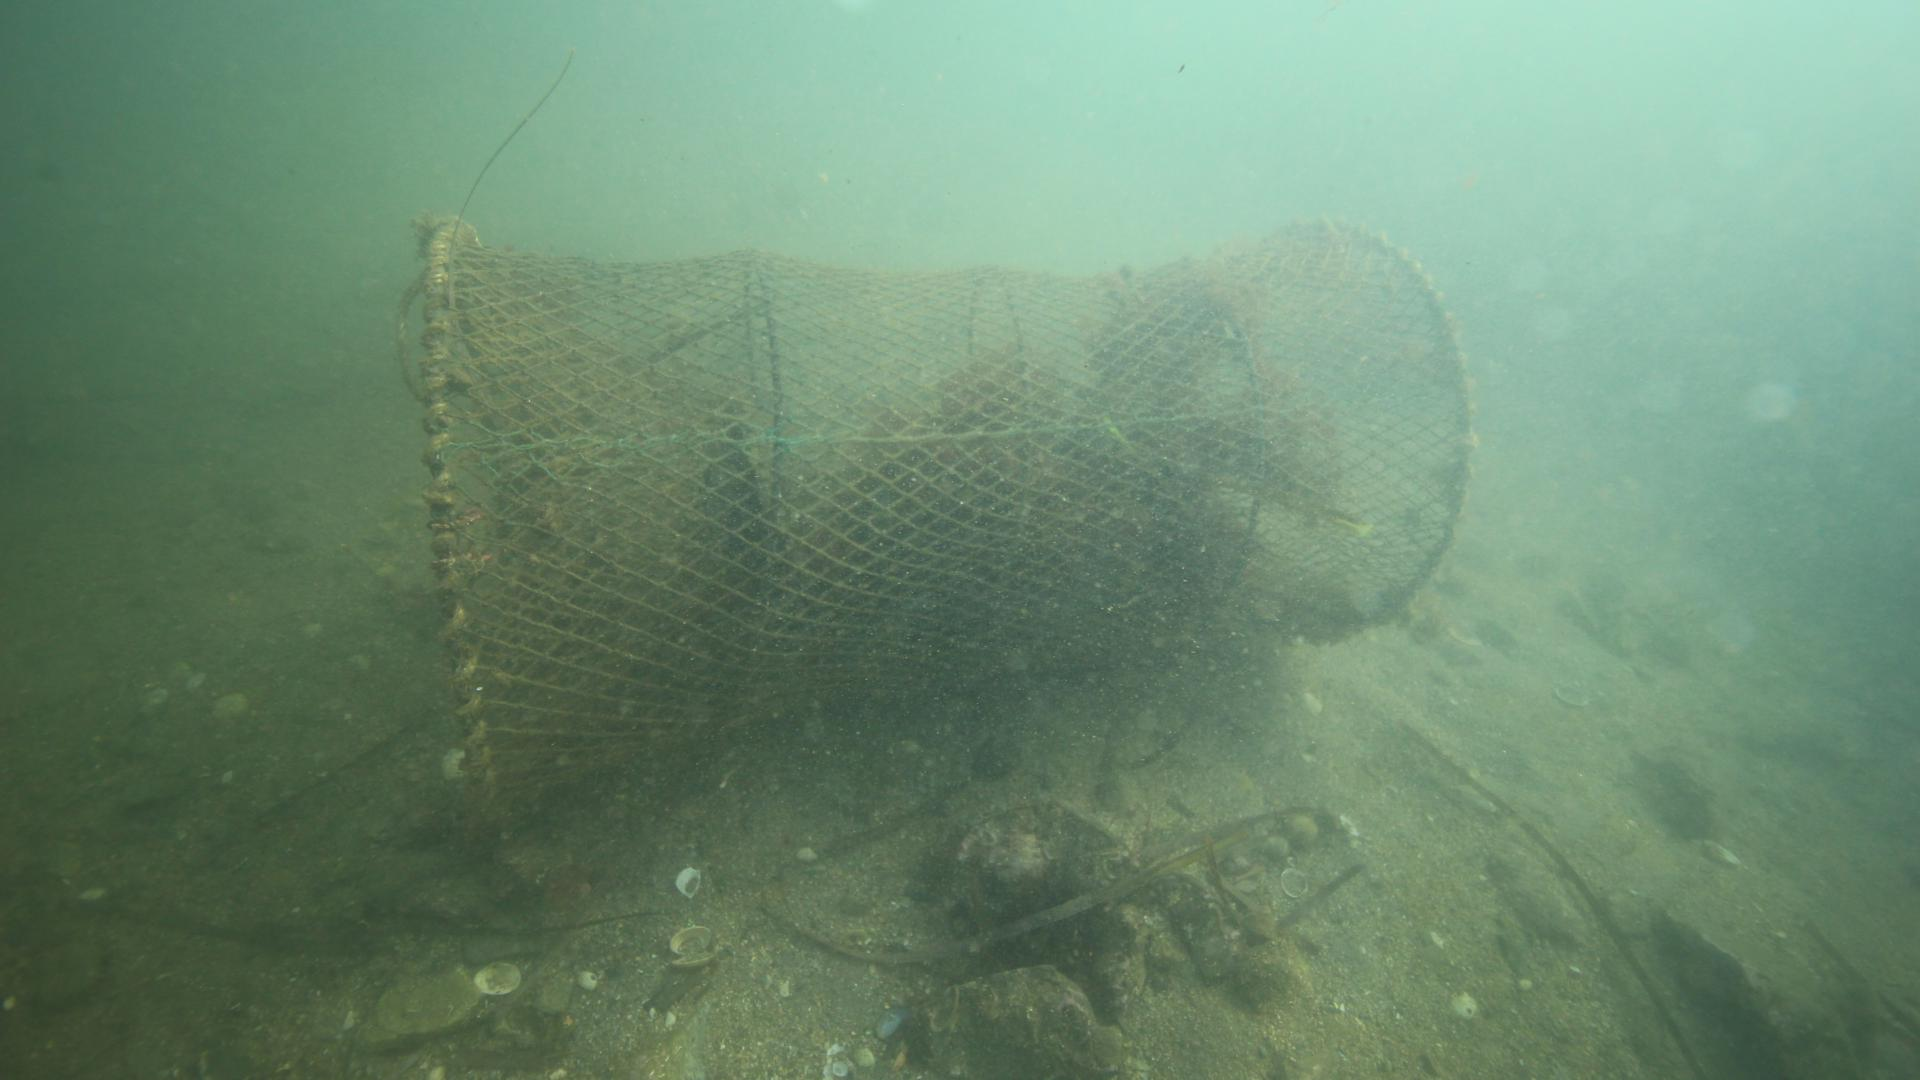spring fish trap: (421, 212, 1476, 822)
